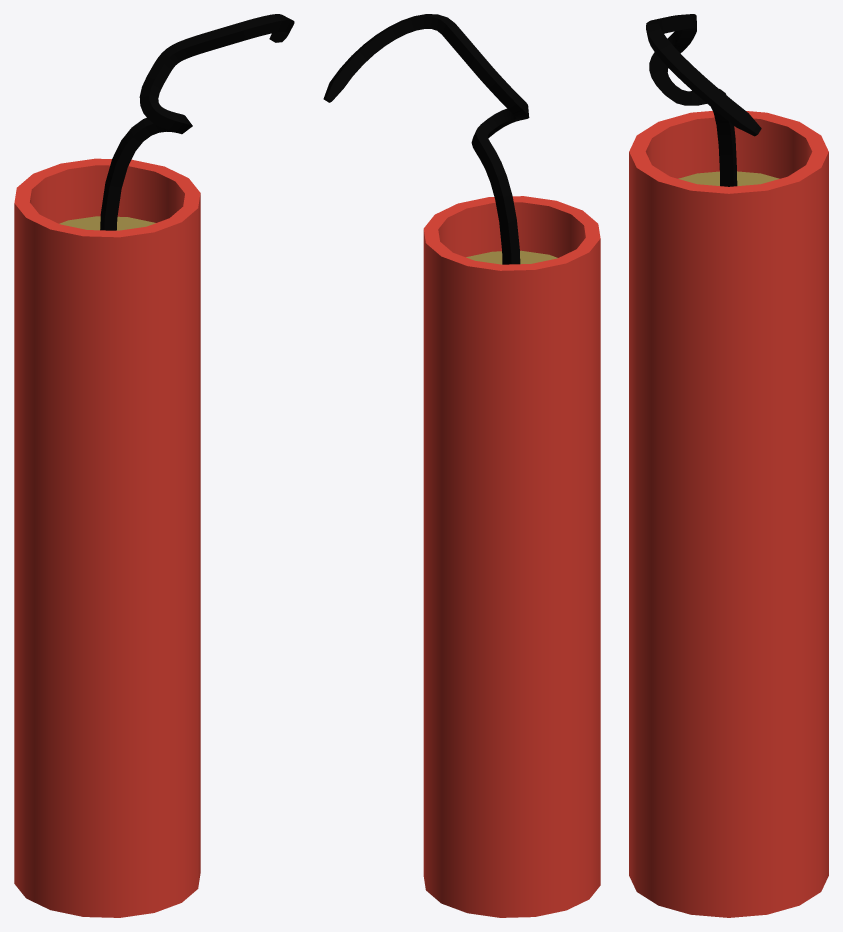
File: dynamite_1x.fbx
3 views of the same model, side by side, from view 1: azimuth 30°, elevation 25°; view 2: azimuth 150°, elevation 25°; view 3: azimuth 270°, elevation 25° (orthographic). The views are drawn at different scales.
Visible parts, largest first — view 1: Icosphere; view 2: Icosphere; view 3: Icosphere.
Part boxes in pixels (left/top/right/bottom): Icosphere: left=14, top=14, right=294, bottom=917; Icosphere: left=323, top=14, right=600, bottom=917; Icosphere: left=629, top=14, right=828, bottom=917.
Size of the model in its own units: 165 by 503 by 100.
